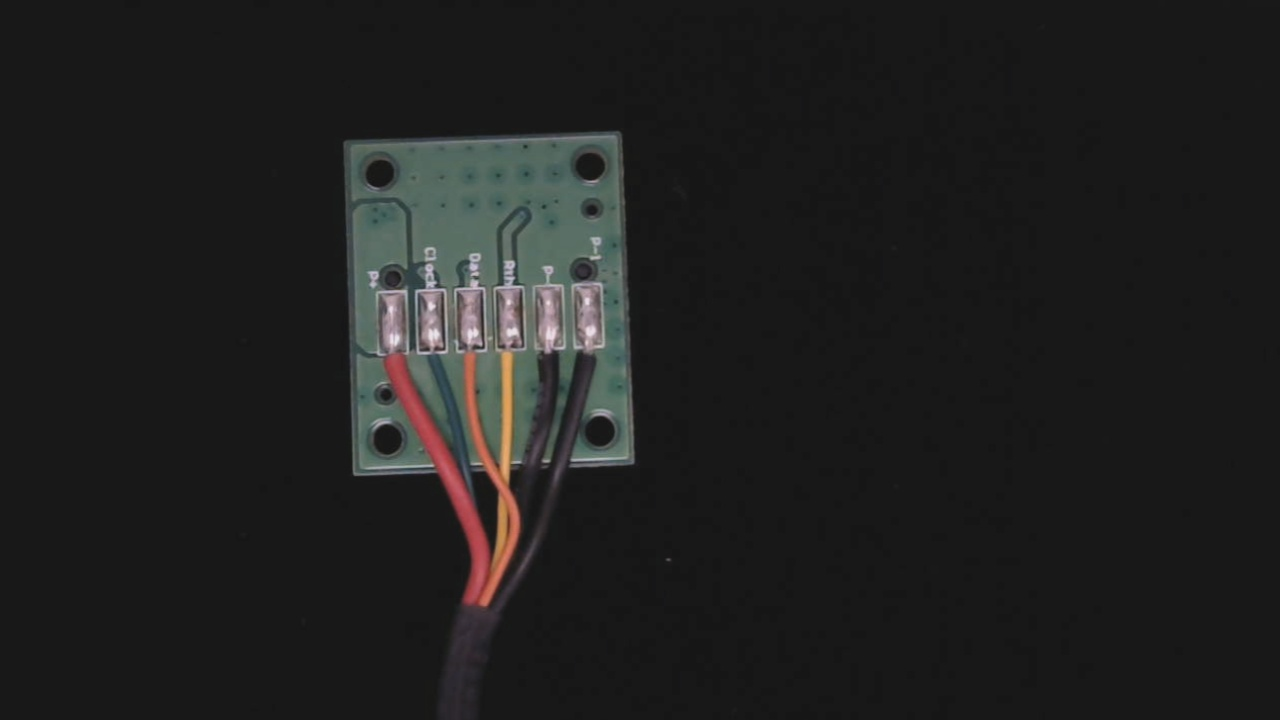Black: (535, 331, 564, 396)
Black1: (575, 330, 605, 390)
Green: (416, 333, 446, 398)
Orange: (456, 332, 483, 396)
Red: (378, 335, 412, 405)
Yellow: (495, 332, 527, 395)
